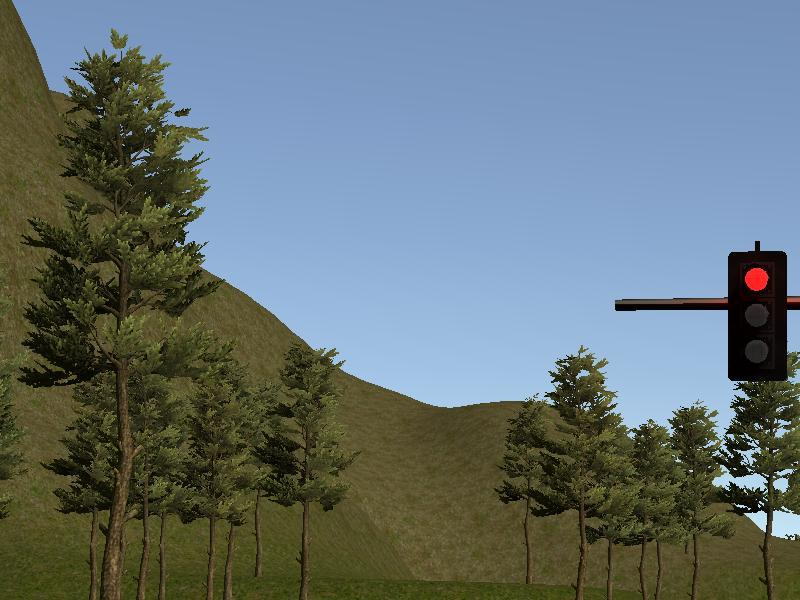Red: (729, 252, 787, 383)
